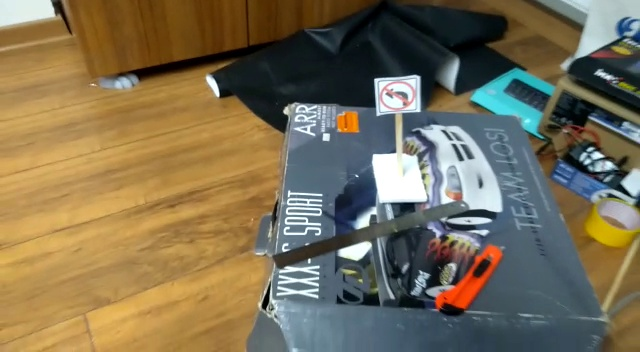sola_donulmez: (378, 76, 417, 113)
